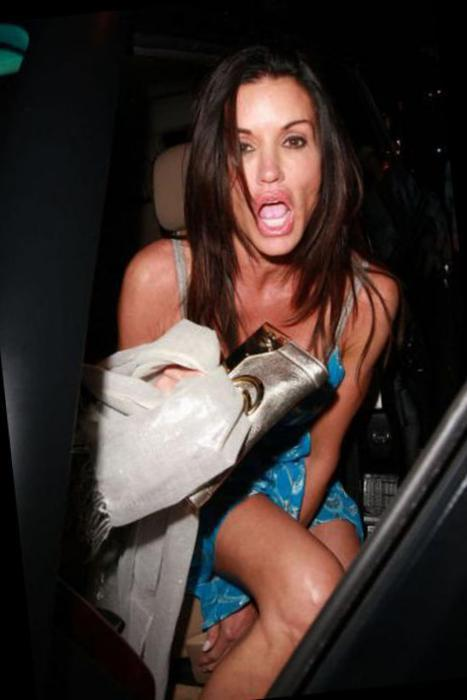Drunk: (218, 80, 326, 260)
